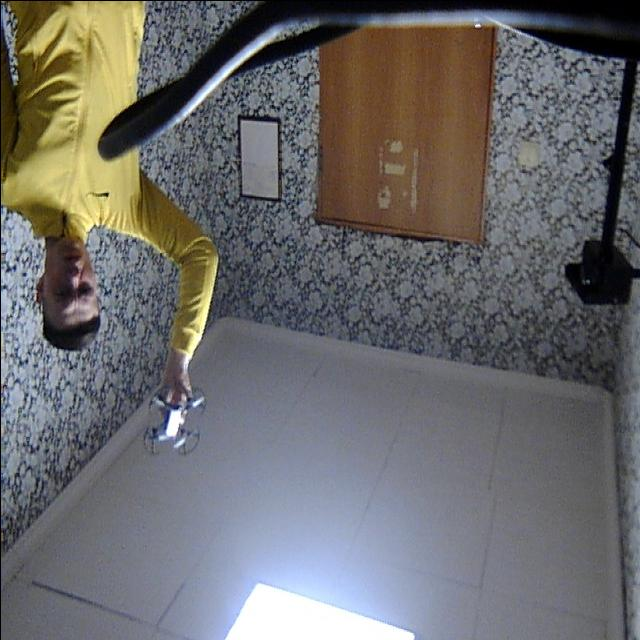drone: (140, 372, 211, 464)
